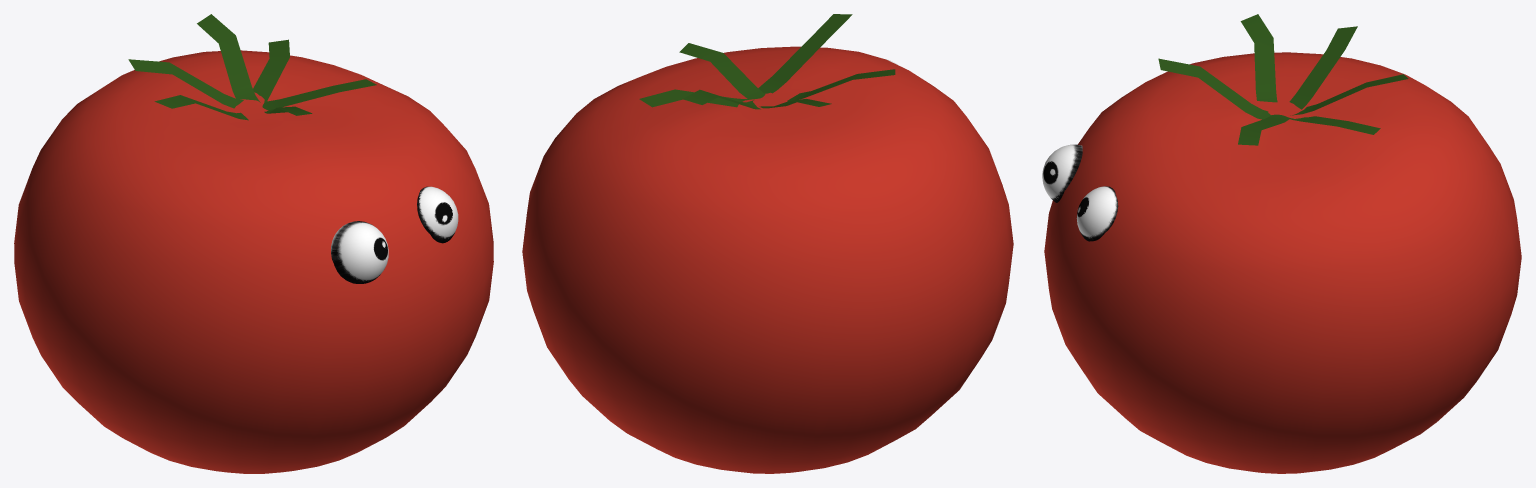
The model's file is Tomate.fbx.
3 renders of one model, left to right at view 1: azimuth 30°, elevation 25°; view 2: azimuth 150°, elevation 25°; view 3: azimuth 270°, elevation 25°, orthographic. The views are drawn at different scales.
Visible parts, largest first — view 1: Sphere, Sphere.002, Sphere.001; view 2: Sphere; view 3: Sphere, Sphere.001, Sphere.002.
Part boxes in pixels (left/top/right/bottom): Sphere: left=14, top=14, right=493, bottom=473; Sphere.002: left=331, top=221, right=388, bottom=283; Sphere.001: left=417, top=186, right=458, bottom=243; Sphere: left=522, top=14, right=1013, bottom=473; Sphere: left=1044, top=14, right=1521, bottom=473; Sphere.001: left=1076, top=186, right=1118, bottom=241; Sphere.002: left=1042, top=144, right=1082, bottom=202.
Bounding box in the file's own units: 200 × 176 × 201.
